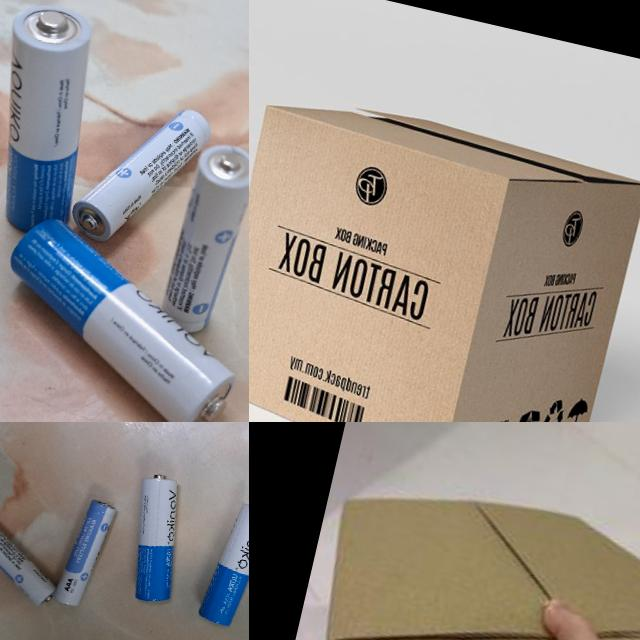bateria: (0, 209, 249, 422), (0, 0, 114, 239), (66, 86, 216, 262), (153, 137, 249, 337), (116, 469, 196, 606), (195, 495, 249, 630), (54, 495, 116, 610), (0, 510, 68, 608)
papelão: (249, 81, 640, 422), (277, 456, 640, 640)
